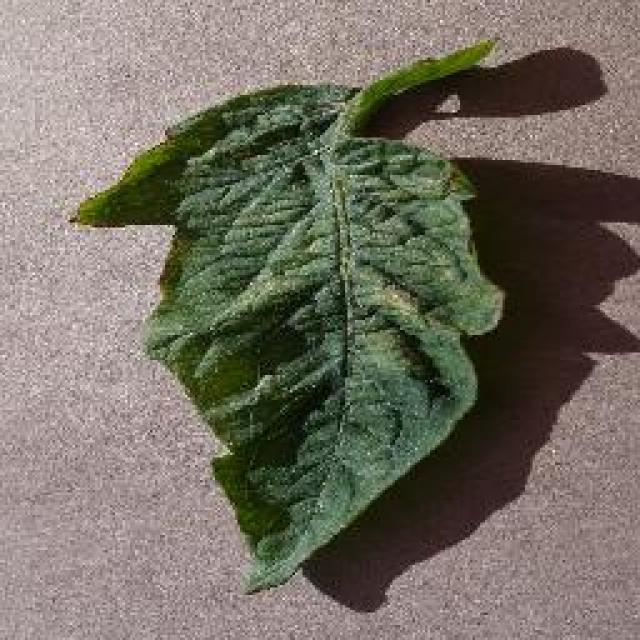Tomato___Spider_mites Two-spotted_spider_mite: (78, 40, 502, 590)
